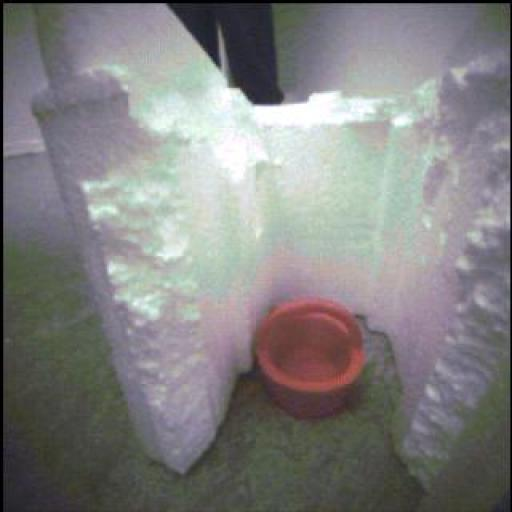Bucket: (257, 300, 364, 419)
